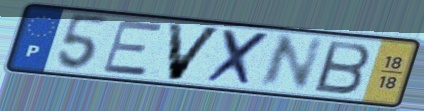5: (53, 11, 112, 74)
B: (312, 38, 374, 97)
E: (100, 19, 165, 78)
N: (254, 33, 328, 91)
V: (165, 20, 226, 82)
X: (204, 27, 275, 89)
